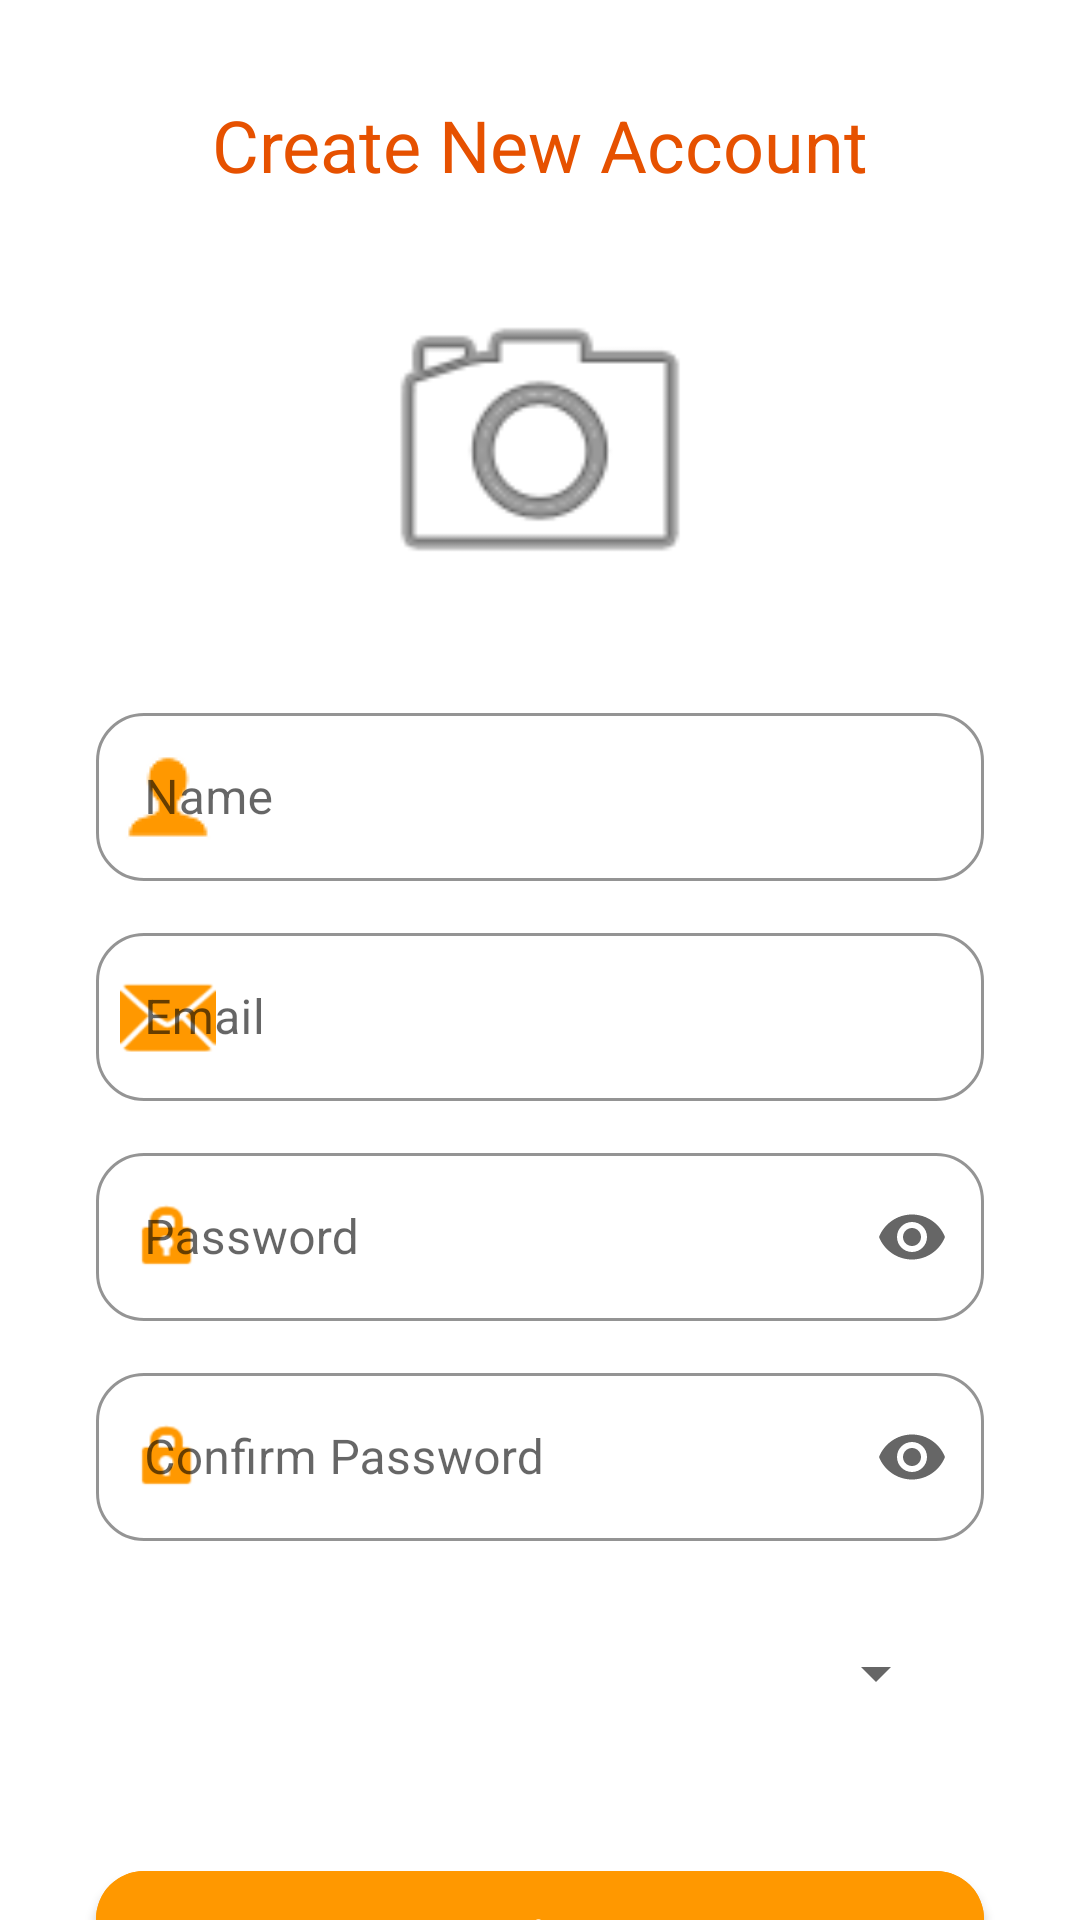

Icon bounding boxes for this 1080 × 1920 phone screenshot, format region(x1, y1, x2, y2):
camera: region(401, 328, 679, 550)
